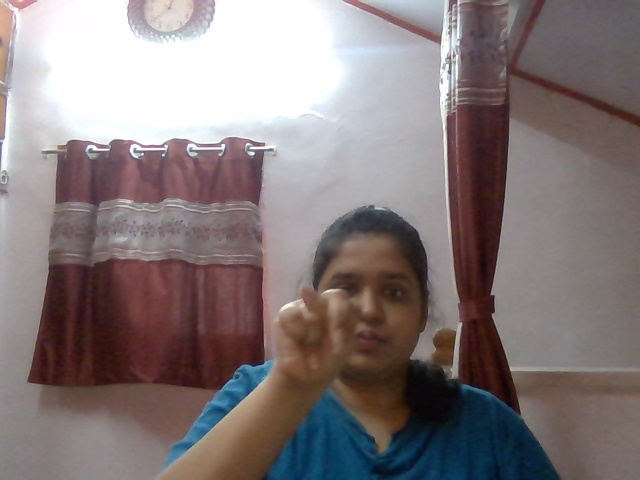n: (262, 278, 370, 408)
